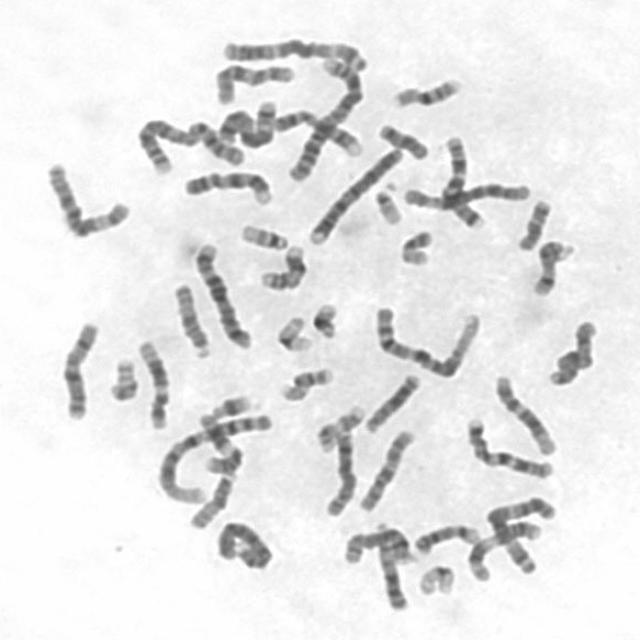A1: (152, 407, 276, 507), (367, 300, 483, 380)
A2: (281, 51, 366, 184), (131, 112, 247, 175)
A3: (472, 491, 559, 582), (214, 31, 372, 73)
B4: (302, 141, 406, 247), (211, 514, 274, 571)
B5: (188, 236, 254, 351), (210, 94, 279, 150)
C10: (352, 422, 418, 514), (208, 56, 298, 106)
C11: (461, 515, 543, 583), (192, 407, 243, 477)
C12: (488, 368, 560, 456), (132, 334, 172, 431)
C6: (39, 156, 133, 240), (397, 175, 532, 212)
C7: (460, 411, 557, 480), (437, 129, 488, 231)
C8: (317, 425, 359, 518), (338, 521, 416, 568)
C9: (268, 104, 364, 158), (178, 164, 275, 208)
D13: (358, 368, 423, 435), (370, 530, 409, 612)
D14: (526, 235, 575, 298), (408, 518, 482, 556)
D15: (167, 277, 213, 360), (184, 468, 238, 530)
E16: (386, 71, 464, 110), (275, 367, 338, 404)
E17: (310, 399, 368, 453), (254, 239, 308, 292)
E18: (372, 117, 432, 162), (512, 193, 553, 252)
F19: (270, 310, 314, 354), (412, 559, 458, 598)
F20: (102, 352, 140, 403), (394, 225, 435, 268)
G21: (203, 388, 254, 420), (305, 296, 340, 341)
G22: (234, 218, 290, 252), (369, 175, 404, 226)
X: (54, 314, 102, 422), (541, 314, 601, 388)
